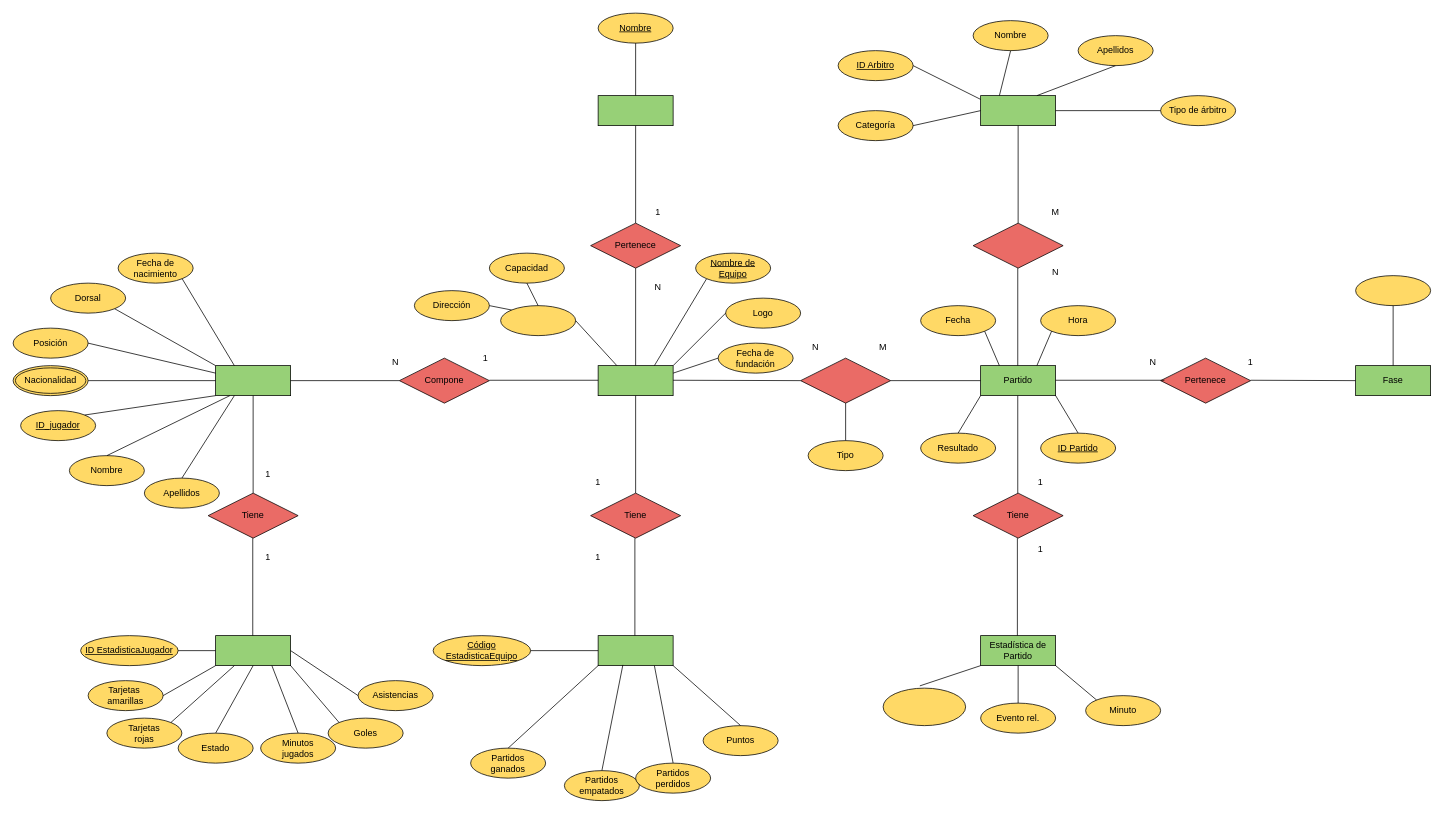
This 1444x814 diagram has some shape labels left out. Each missing label, with the centre of its shape:
"Arbitra" belongs at point 1017,245.
"Código Estadística de Partido" belongs at point 924,706.
"Equipo" belongs at point 635,380.
"Estadio" belongs at point 538,320.
"Estadística de equipo" belongs at point 635,650.
"Estadísticas de jugador" belongs at point 253,650.
"Grupo" belongs at point 635,110.
"Juega" belongs at point 845,380.
"Jugador" belongs at point 253,380.
"Nombre de la fase" belongs at point 1393,290.
"Árbitro" belongs at point 1018,110.
